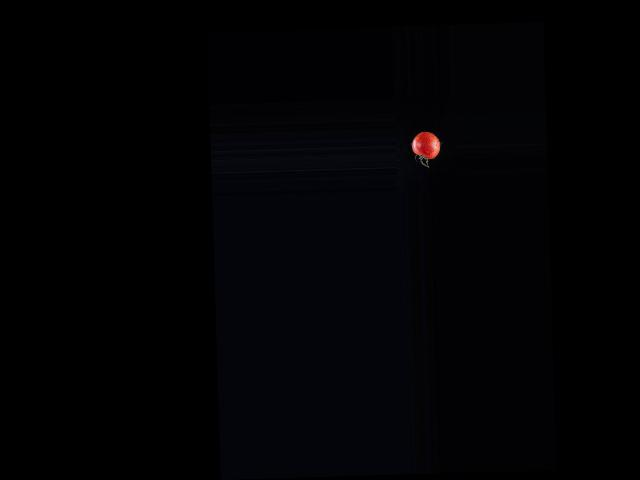tomato: (411, 131, 441, 160)
